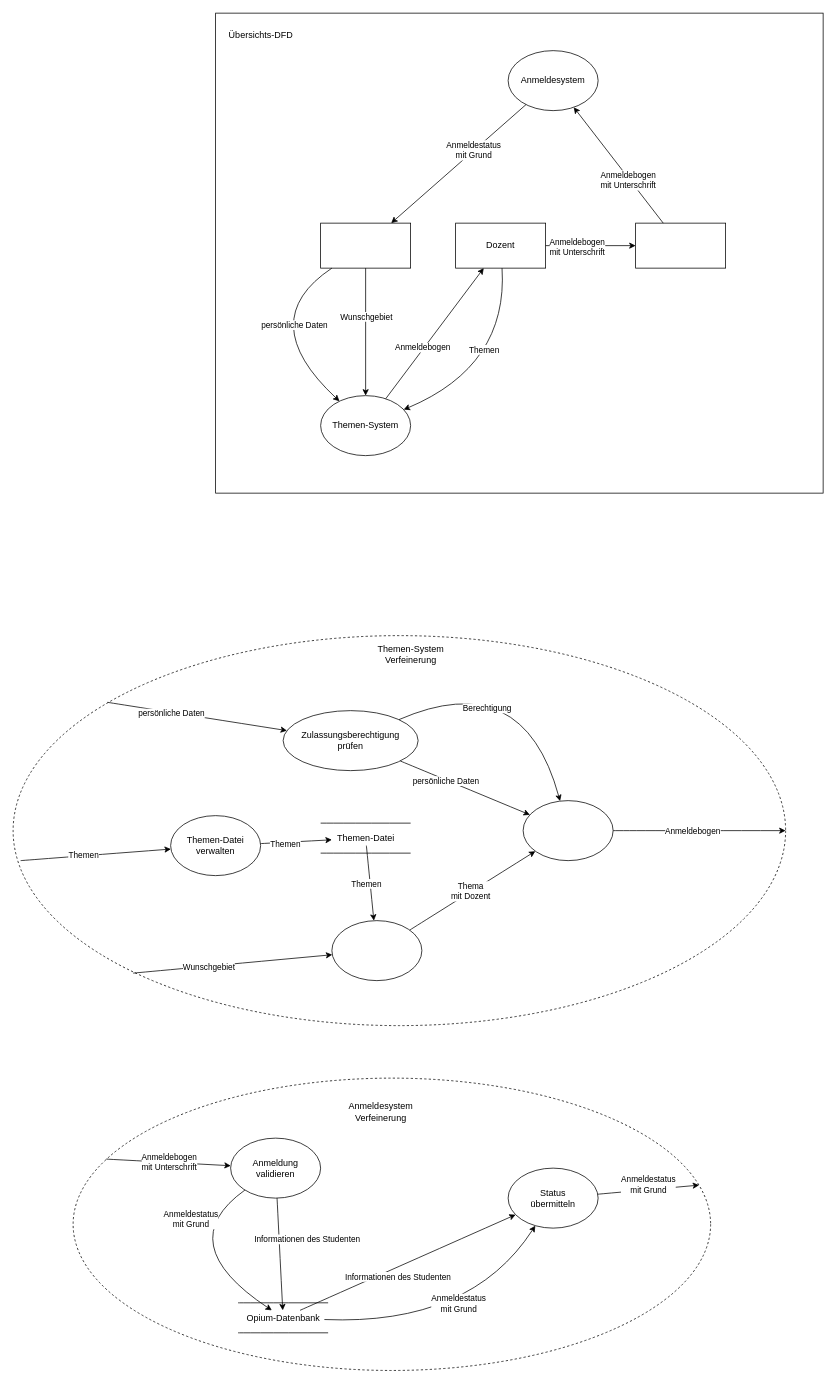
The diagram is 836 pixels wide and 1384 high, and some of its shapes have lost their labels. Here are the shapes that lost their labels. From the top down, the centre of each, then its label:
At [365,245]: "Student".
At [680,245]: "Prüfungsamt".
At [567,830]: "Anmeldebogen austellen".
At [376,950]: "Thema auswählen".
